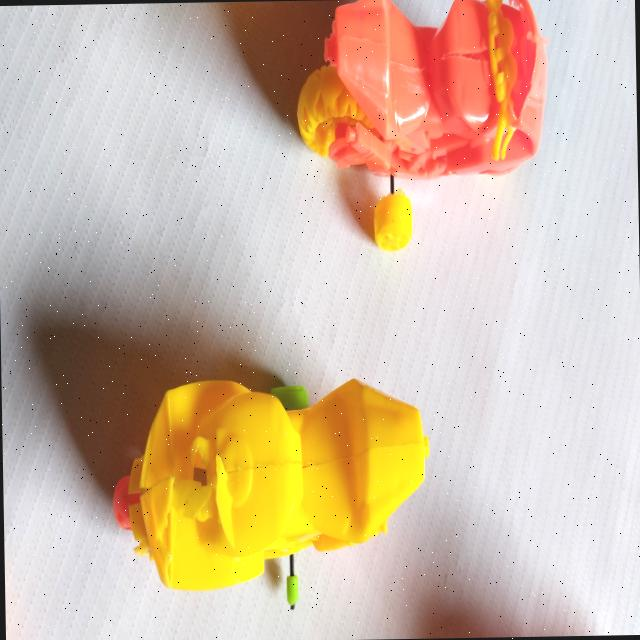bikes: (114, 379, 428, 589), (297, 0, 547, 250)
